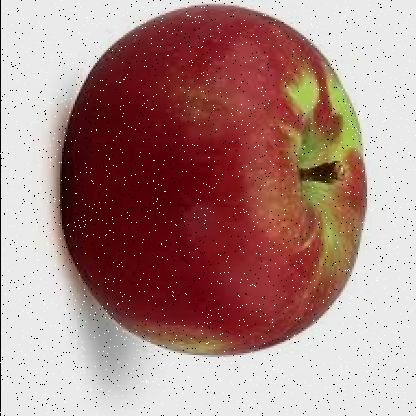apple: (42, 13, 366, 355)
